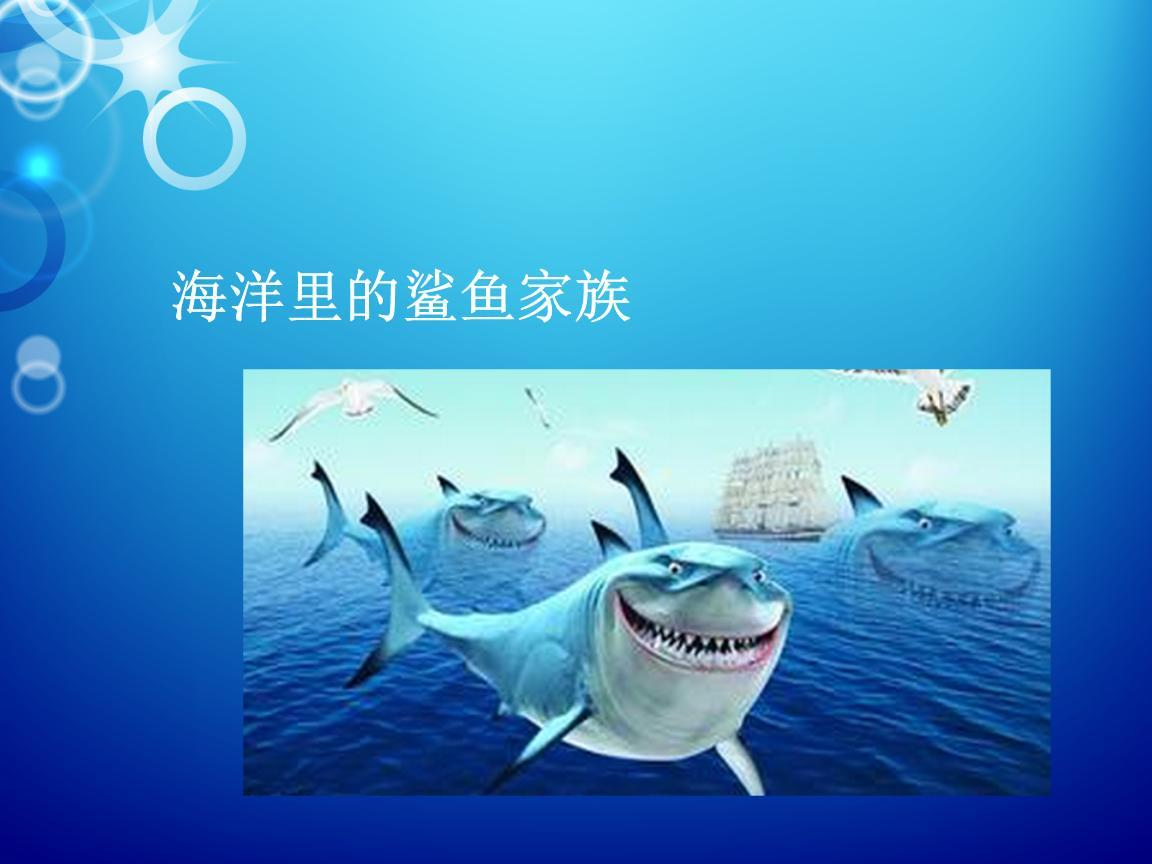fish: (320, 444, 811, 796)
